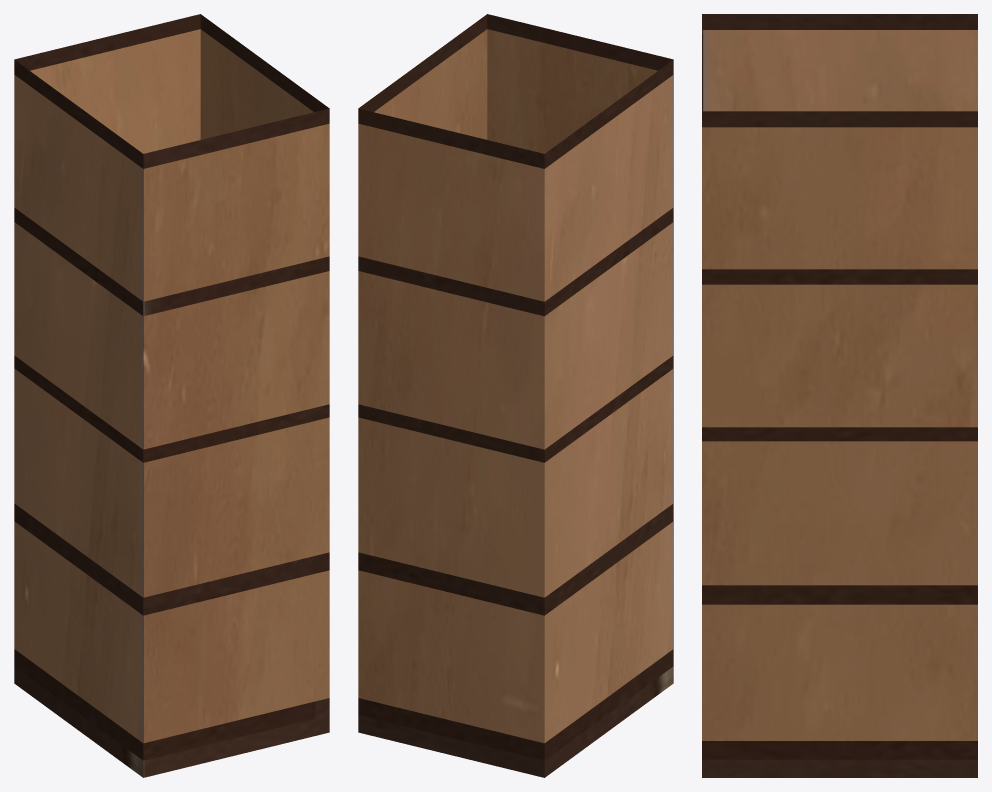
File: panno2.fbx
3 renders of one model, left to right at view 1: azimuth 30°, elevation 25°; view 2: azimuth 150°, elevation 25°; view 3: azimuth 270°, elevation 25°, orthographic. The views are drawn at different scales.
Parts seen in each view (by area): view 1: Cube.011; view 2: Cube.011; view 3: Cube.011.
Part boxes in pixels (bbox=[...]): Cube.011: bbox=[14, 14, 329, 777]; Cube.011: bbox=[358, 14, 673, 777]; Cube.011: bbox=[702, 14, 977, 777].
Bounding box in the file's own units: 500 × 1600 × 600.
2 materials, 2 textured.
